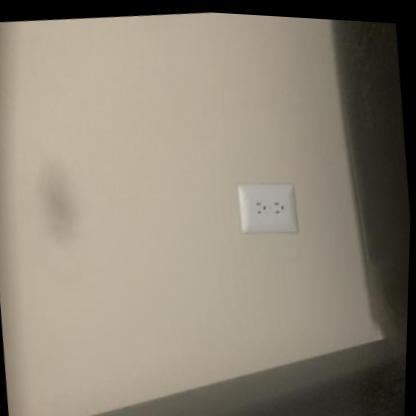OUTLET: (235, 177, 297, 236)
